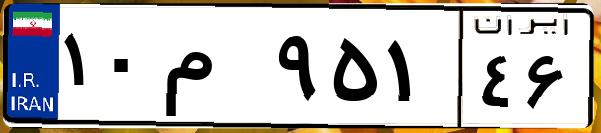0: (110, 28, 158, 98)
1: (385, 28, 445, 110), (57, 26, 110, 100)
4: (475, 38, 525, 113)
5: (330, 28, 385, 110)
6: (525, 38, 570, 115)
9: (270, 28, 330, 110)
م: (158, 20, 270, 120)
